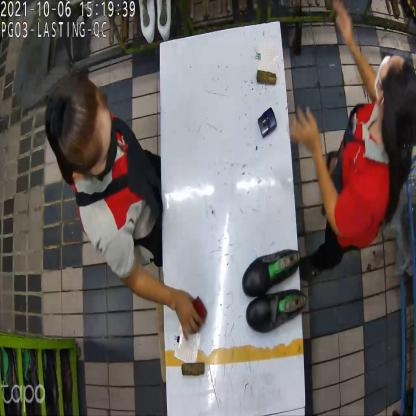shoes: (242, 248, 306, 330)
stamp: (186, 295, 206, 330), (258, 105, 276, 139)
